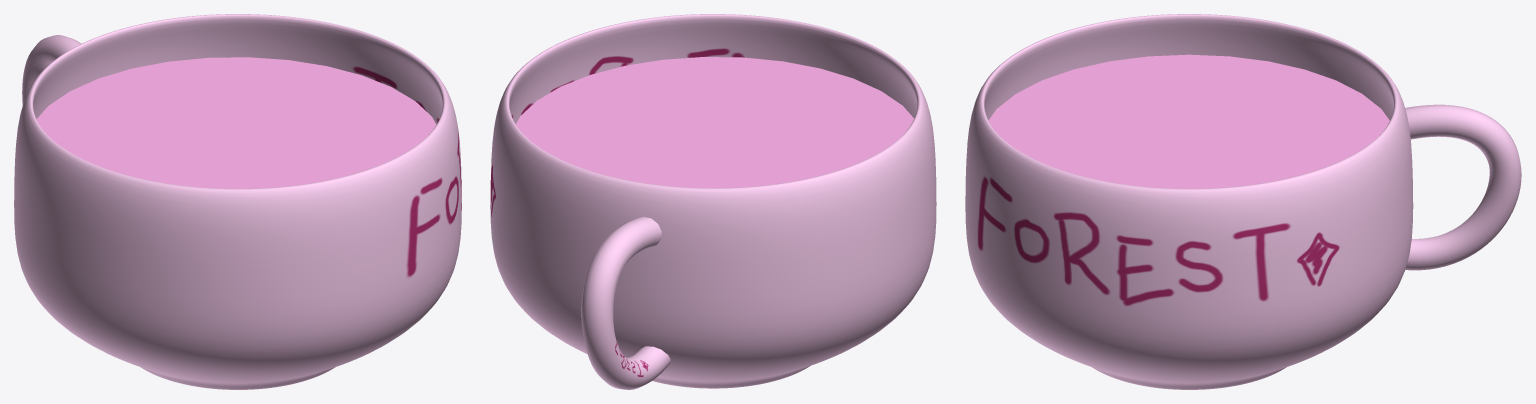
The model's file is teacup111.fbx.
3 views of the same model, side by side, from view 1: azimuth 30°, elevation 25°; view 2: azimuth 150°, elevation 25°; view 3: azimuth 270°, elevation 25° (orthographic).
Parts seen in each view (by area): view 1: 圆环.001, 圆环, NURBS 路径; view 2: 圆环.001, 圆环, NURBS 路径; view 3: 圆环.001, 圆环, NURBS 路径.
Boxes of the visible parts, bbox=[...] form: 圆环.001: bbox=[14, 14, 461, 389]; 圆环: bbox=[36, 57, 436, 188]; NURBS 路径: bbox=[22, 35, 81, 105]; 圆环.001: bbox=[490, 14, 936, 388]; 圆环: bbox=[516, 57, 914, 188]; NURBS 路径: bbox=[581, 216, 670, 389]; 圆环.001: bbox=[965, 14, 1413, 389]; 圆环: bbox=[988, 54, 1389, 188]; NURBS 路径: bbox=[1405, 104, 1521, 270].
Bounding box in the file's own units: 323 × 194 × 402.
